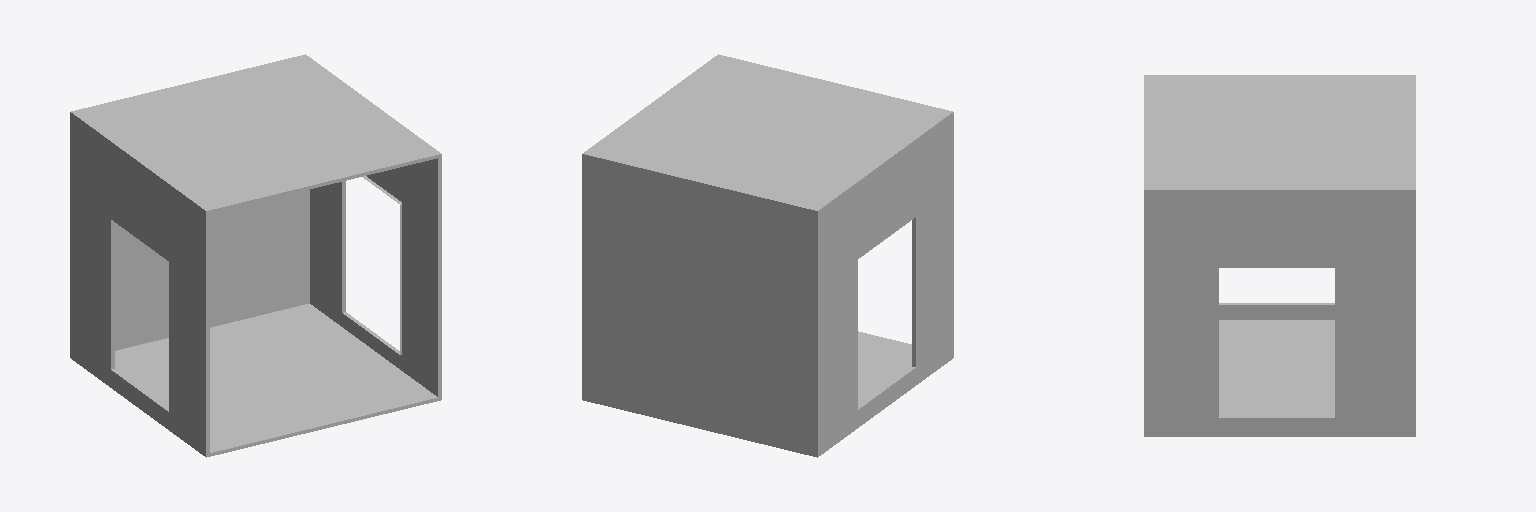
File: elevador.obj
The picture shows the model from 3 angles: view 1: azimuth 30°, elevation 25°; view 2: azimuth 150°, elevation 25°; view 3: azimuth 270°, elevation 25°; orthographic projection.
Visible parts, largest first — view 1: pCube1; view 2: pCube1; view 3: pCube1.
Part boxes in pixels (x1,y1,x2,y2): pCube1: (70, 54, 441, 457); pCube1: (582, 54, 953, 457); pCube1: (1144, 75, 1415, 436).
Bounding box in the file's own units: 17.88 × 17.88 × 17.88.